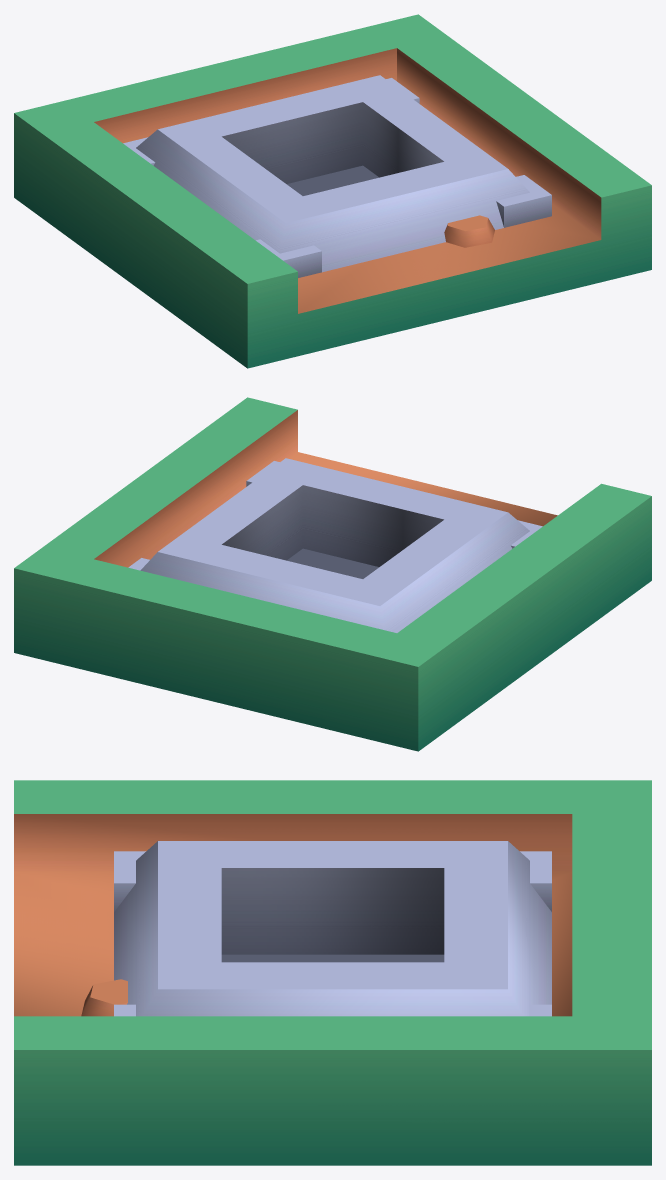
Rendered from tile-spawn-end.glb.
The picture shows the model from 3 angles, top to bottom: view 1: azimuth 30°, elevation 25°; view 2: azimuth 150°, elevation 25°; view 3: azimuth 270°, elevation 25°; orthographic projection. The views are drawn at different scales.
Visible parts, largest first — view 1: tile-spawn-end; view 2: tile-spawn-end; view 3: tile-spawn-end.
Boxes of the visible parts, x1=… form: tile-spawn-end: x1=14, y1=14, x2=651, y2=368; tile-spawn-end: x1=14, y1=397, x2=651, y2=751; tile-spawn-end: x1=14, y1=780, x2=651, y2=1165.
Size of the model in its own units: 1 by 0.2 by 1.
Materials: 1 (1 with a texture image).
